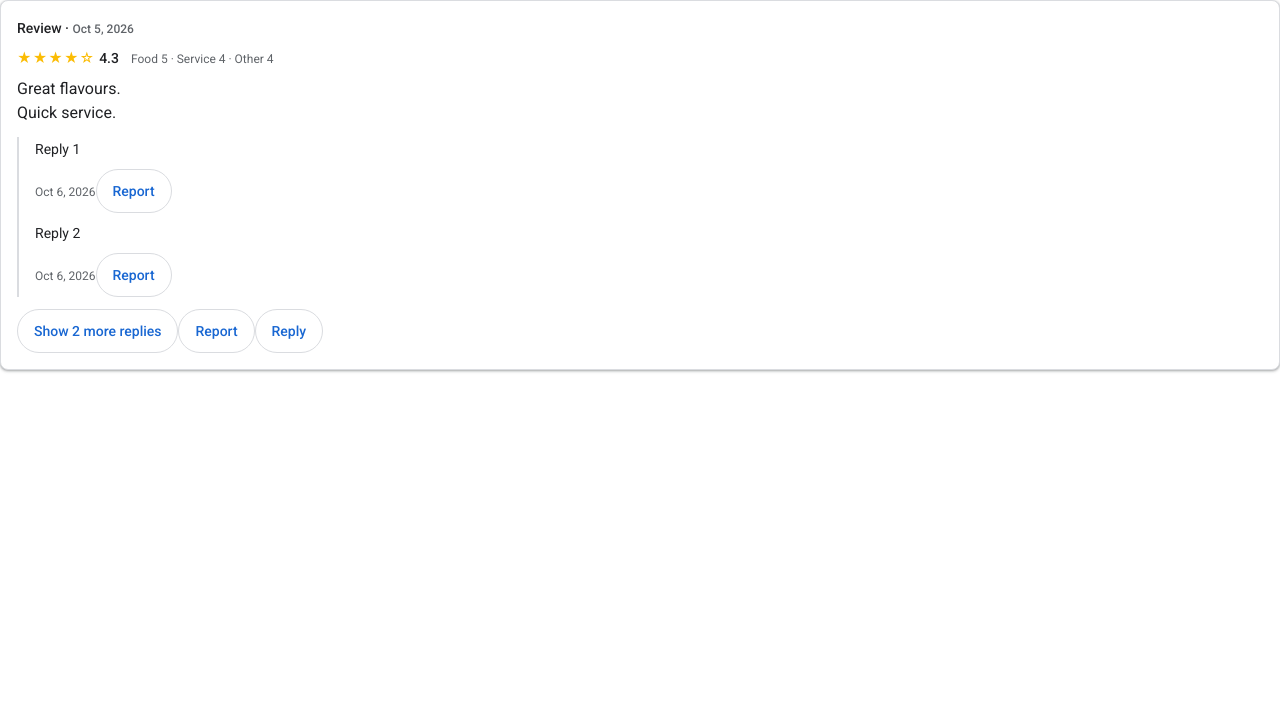
Scenario: ReviewCardComponent › replies › shows the first two approved replies and expands the rest on request
The image size is (1280, 720).
Expected: the number of list items is 2, [35,141,172,213]; [35,225,172,297]
Click the button "Show 2 more replies" at (98,331), box [17,309,178,353]
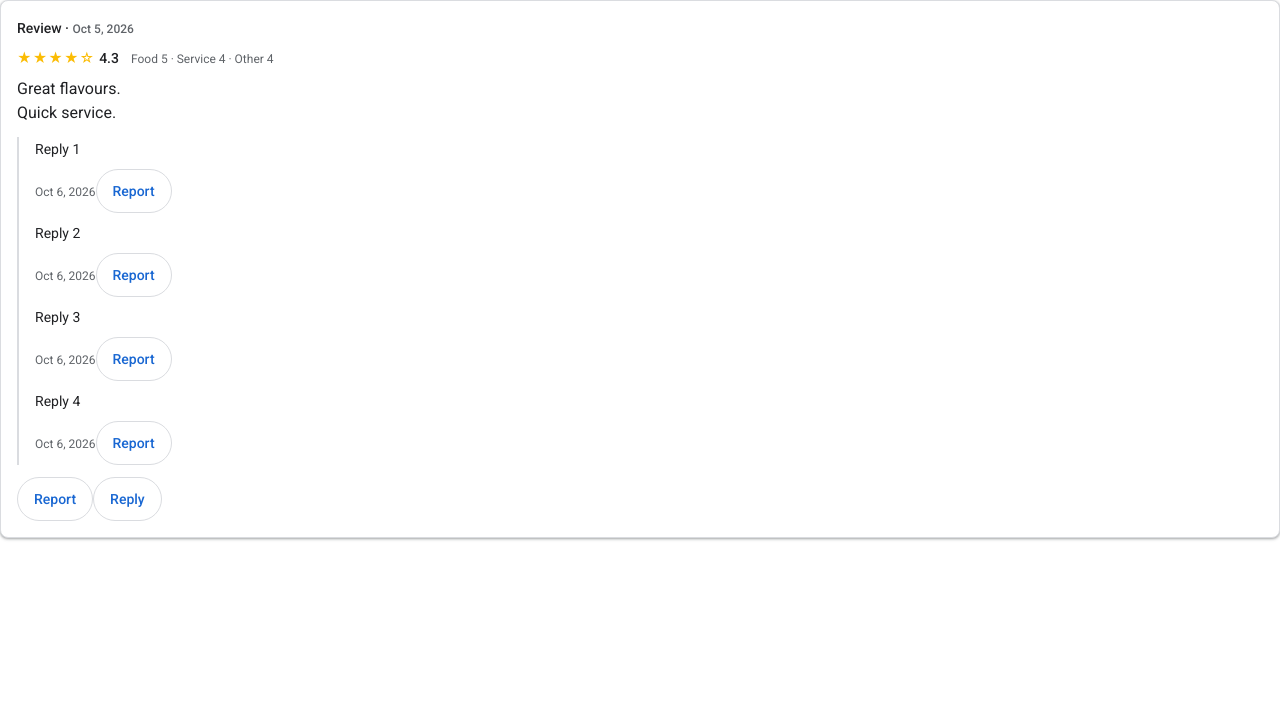
Now the number of list items is 4, box [35,141,172,213]; [35,225,172,297]; [35,309,172,381]; [35,393,172,465]
Now the text "more repl" is gone
